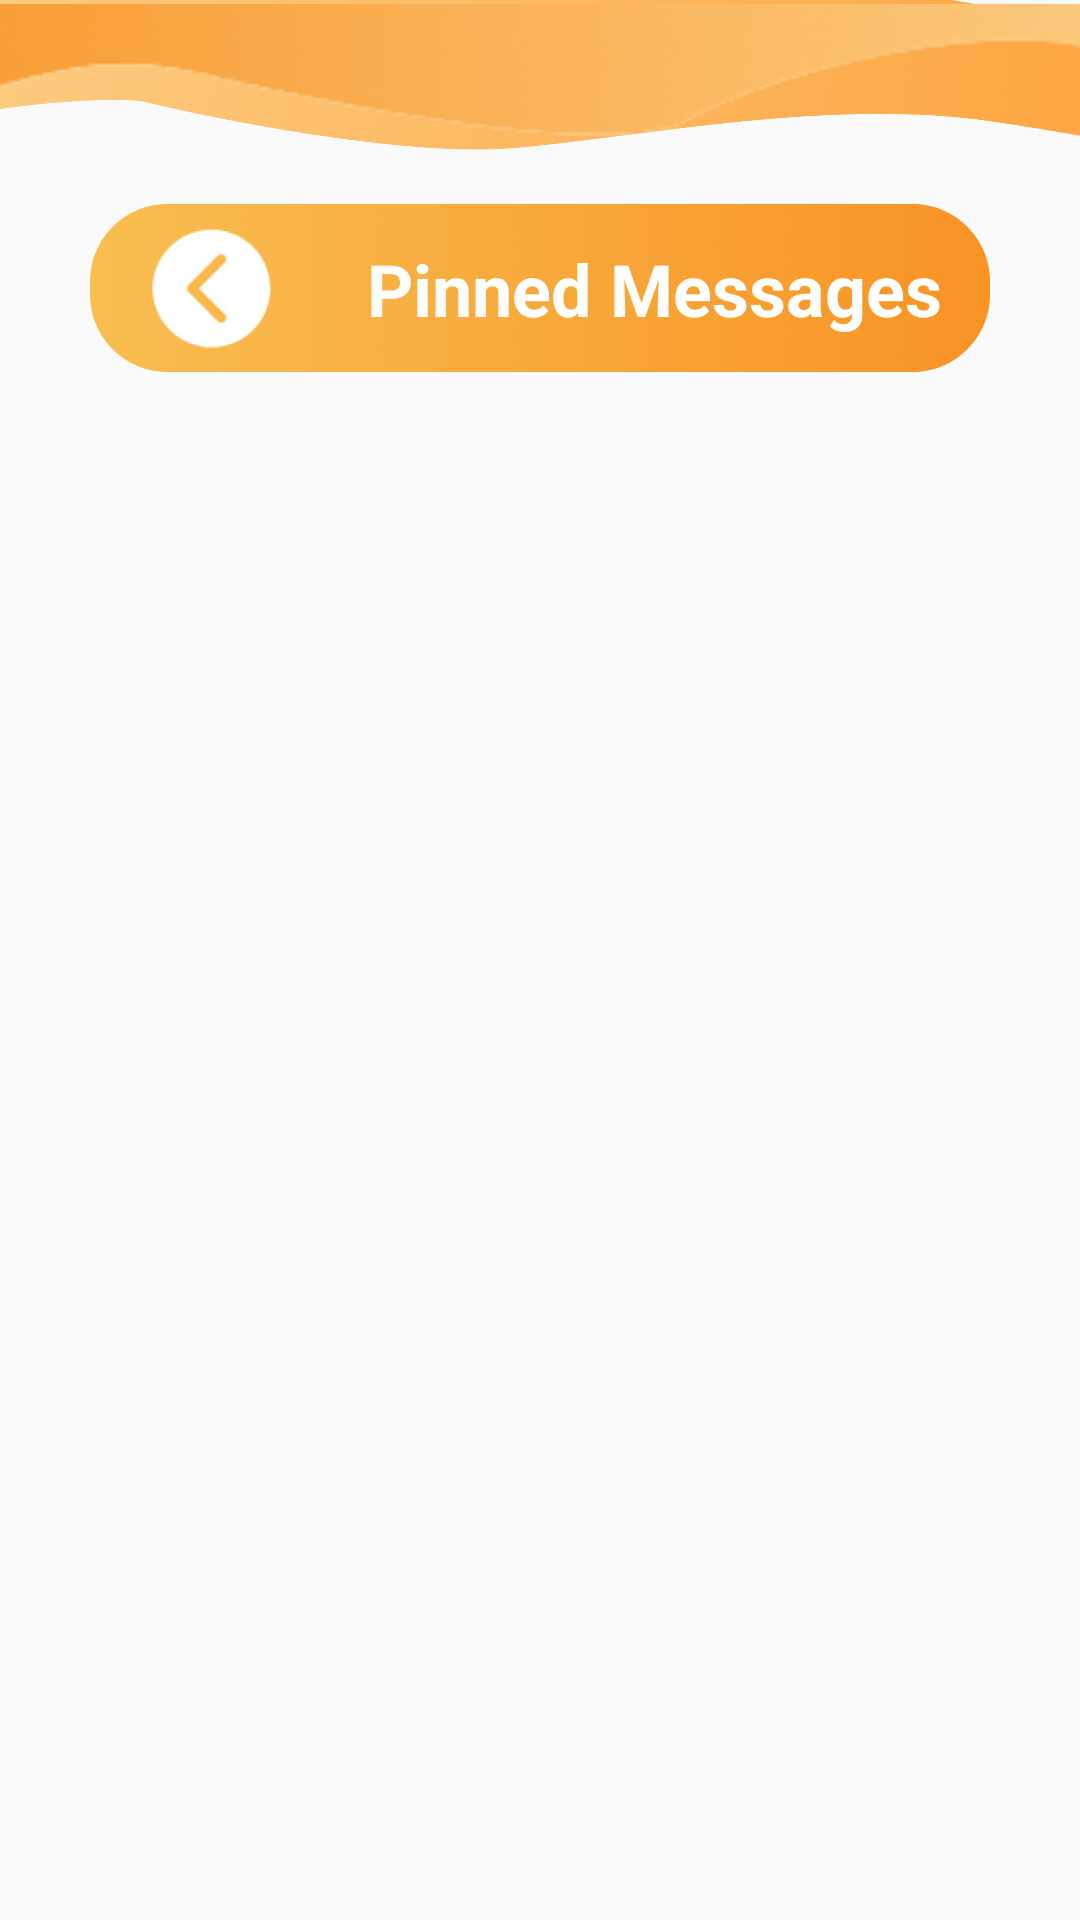

Icons on this 1080 x 1920 Android screen, each with the point to tap as (x,y):
backto: (211,288)
